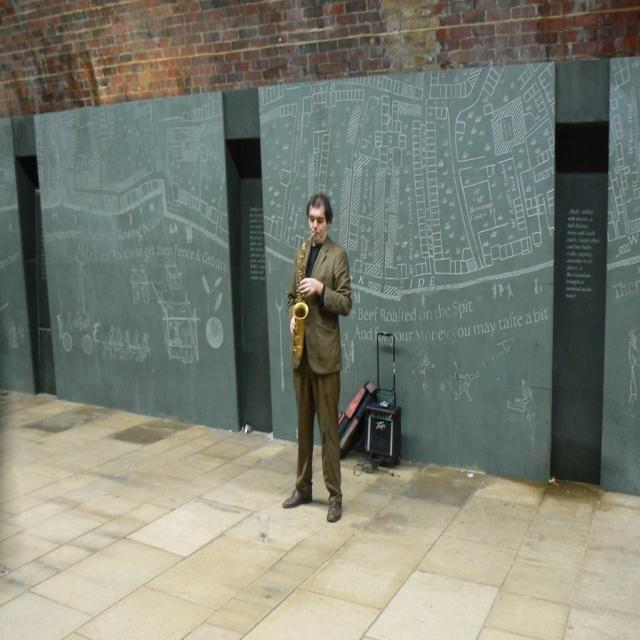saxophone: (288, 229, 314, 376)
